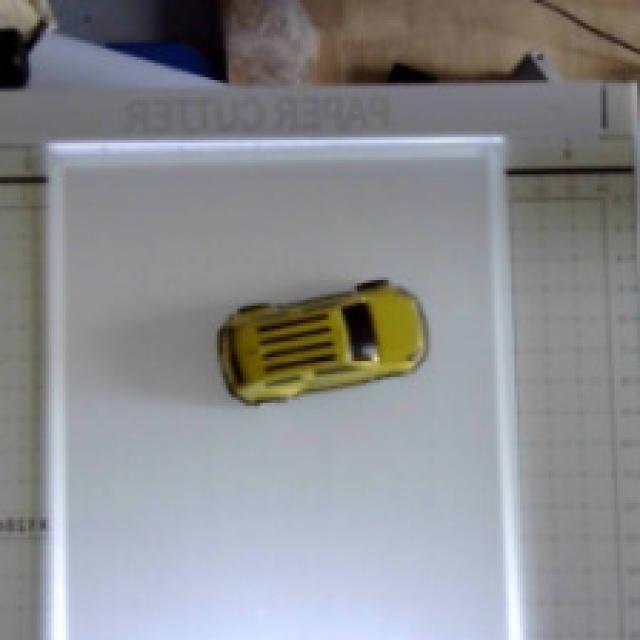Yellow Car: (162, 241, 457, 448)
